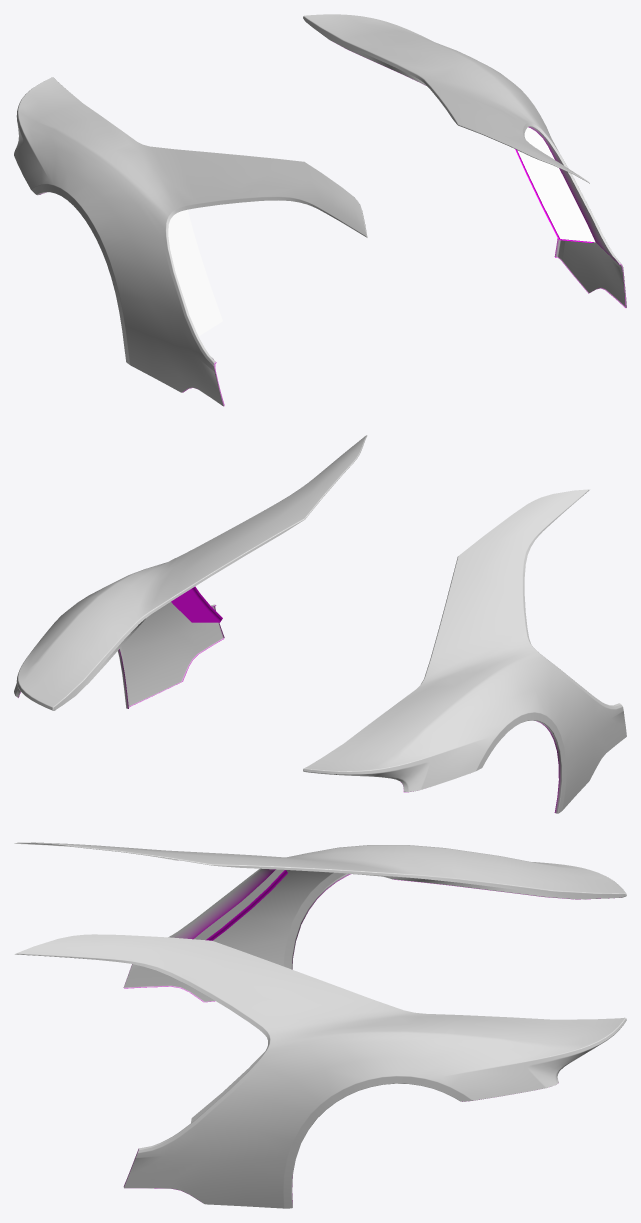
The model's file is Car_Ford_GT_2017_FendersR_SetA.fbx.
3 renders of one model, top to bottom at view 1: azimuth 30°, elevation 25°; view 2: azimuth 150°, elevation 25°; view 3: azimuth 270°, elevation 25°, orthographic.
Parts seen in each view (by area): view 1: FendersR 6; view 2: FendersR 6; view 3: FendersR 6.
Boxes of the visible parts, box(x1,y1,x2,y2) form: FendersR 6: box(14, 14, 626, 406); FendersR 6: box(14, 435, 626, 813); FendersR 6: box(14, 842, 626, 1208).
Size of the model in its own units: 2 by 0.8915 by 2.33.
